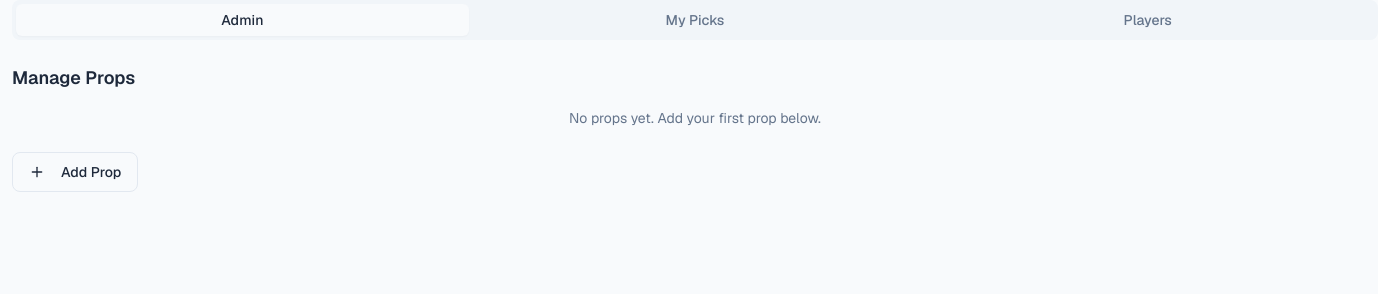
Test: CaptainTabsClient › Players Tab › players list › shows "No players" when list is empty
The image size is (1378, 294).
Click the tab "Players" at (1148, 20), box [921,4,1374,36]
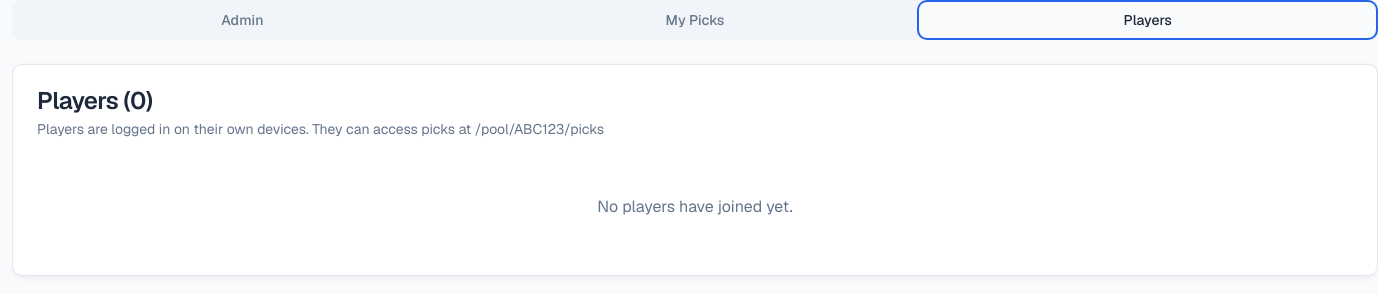
Expected: the text "No players have joined yet." is shown, [597,196,793,217]
